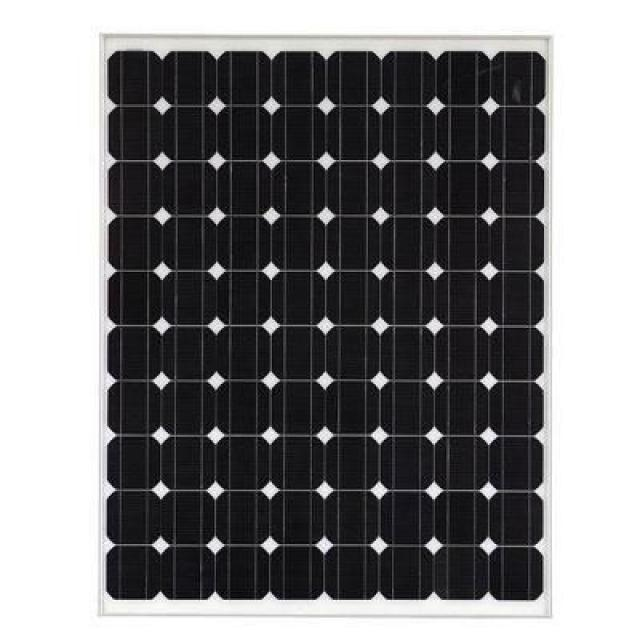clean-solar-panel: (100, 36, 555, 616)
